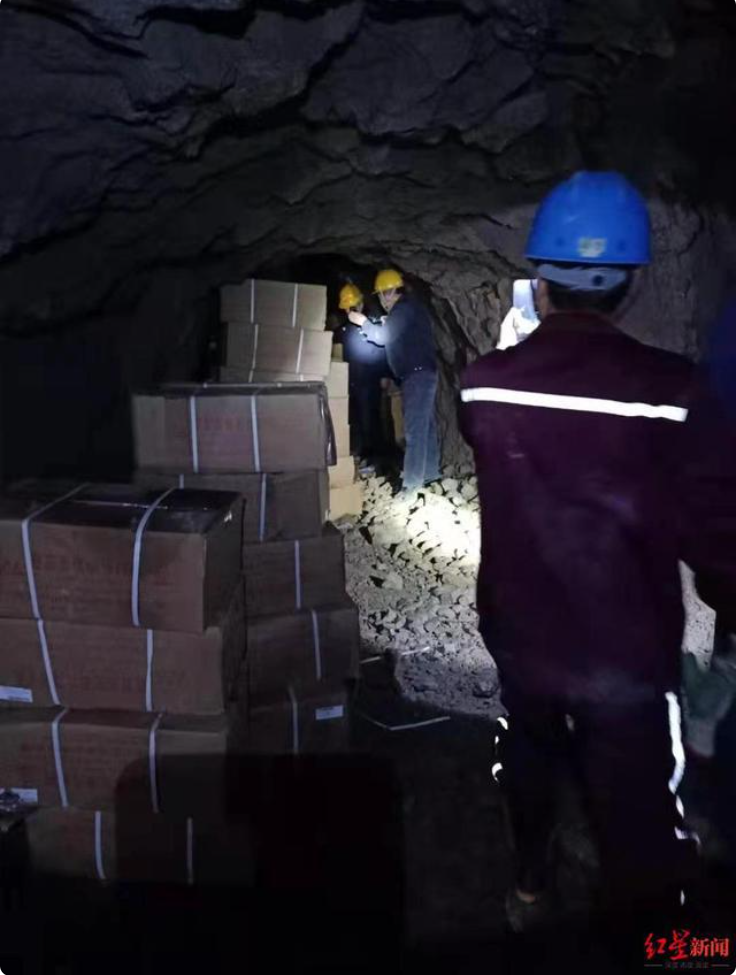helmet: (502, 175, 679, 326)
